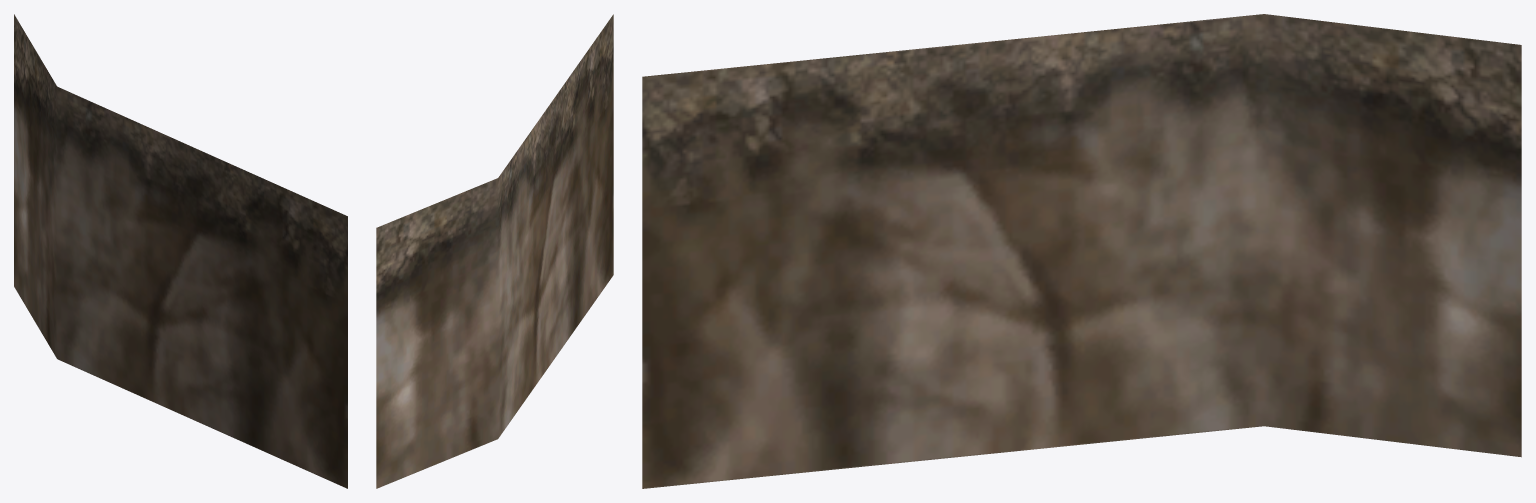
Rendered from OVERHILL_A_01_LINE42.fbx.
3 renders of one model, left to right at view 1: azimuth 30°, elevation 25°; view 2: azimuth 150°, elevation 25°; view 3: azimuth 270°, elevation 25°, orthographic. The views are drawn at different scales.
Parts seen in each view (by area): view 1: OVERHILL_A_01_LINE42; view 2: OVERHILL_A_01_LINE42; view 3: OVERHILL_A_01_LINE42.
Boxes of the visible parts, x1,y1,x2,y2 form: OVERHILL_A_01_LINE42: [14, 14, 347, 488]; OVERHILL_A_01_LINE42: [376, 14, 613, 488]; OVERHILL_A_01_LINE42: [642, 14, 1521, 488].
Size of the model in its own units: 2431 by 7450 by 14400.
Materials: 1 (1 with a texture image).
